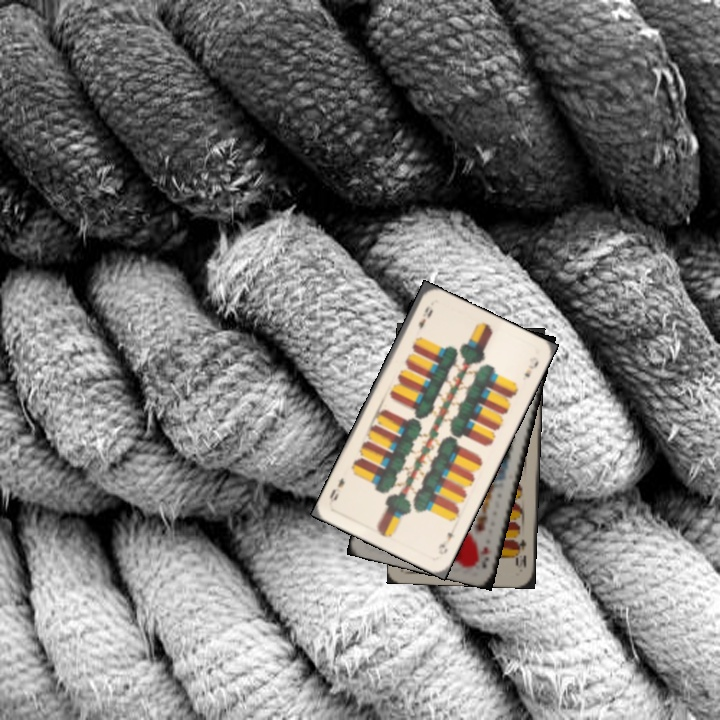E10: (511, 535, 529, 571)
E9: (434, 528, 456, 557), (415, 301, 435, 332)
HK: (476, 543, 492, 572)
